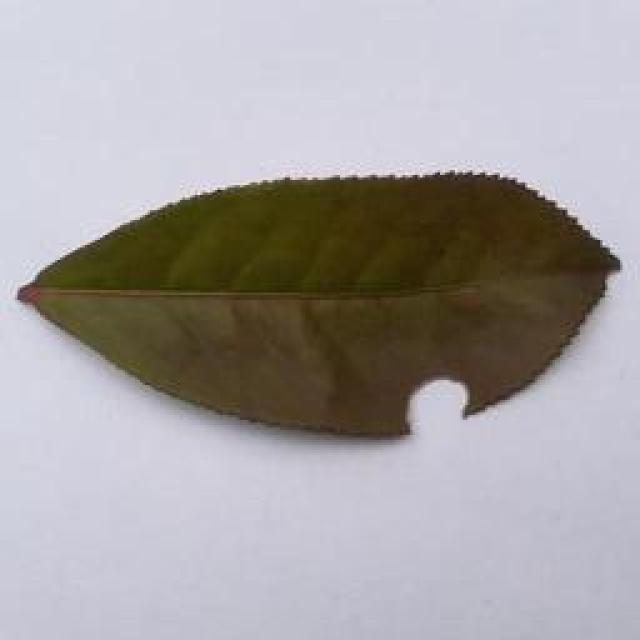Red Leaf Spot: (18, 162, 640, 447)
